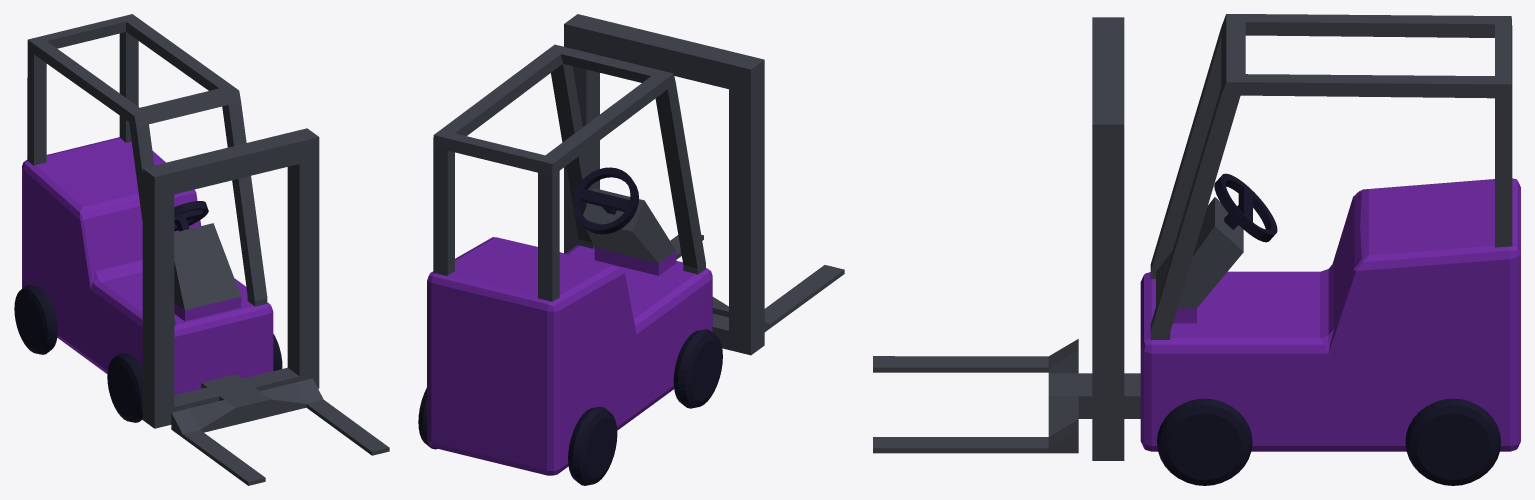
The model's file is Forklift.fbx.
3 renders of one model, left to right at view 1: azimuth 30°, elevation 25°; view 2: azimuth 150°, elevation 25°; view 3: azimuth 270°, elevation 25°, orthographic. The views are drawn at different scales.
Visible parts, largest first — view 1: Forklift; view 2: Forklift; view 3: Forklift.
Boxes of the visible parts, bbox=[...] form: Forklift: bbox=[14, 14, 389, 485]; Forklift: bbox=[418, 14, 844, 485]; Forklift: bbox=[873, 14, 1520, 485].
Size of the model in its own units: 134 by 229 by 341.
